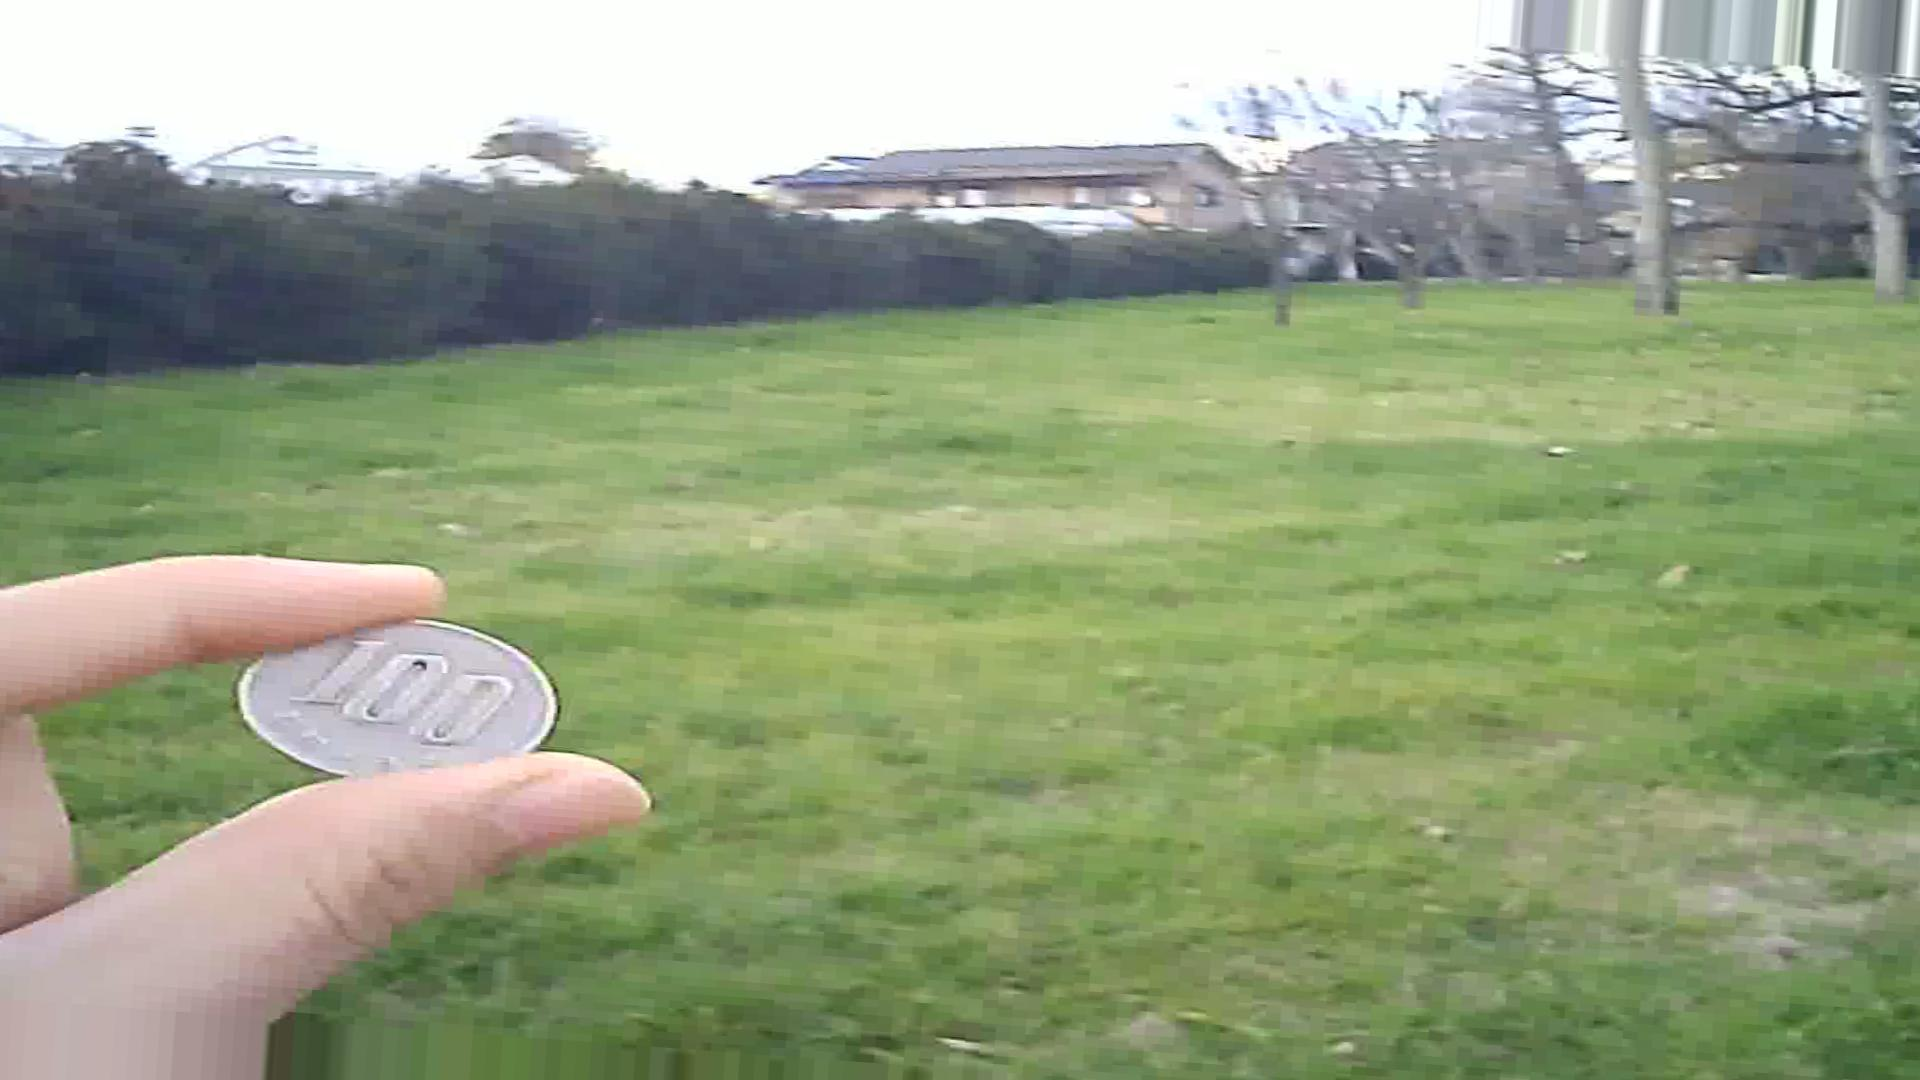100 Yen: (228, 608, 558, 794)
